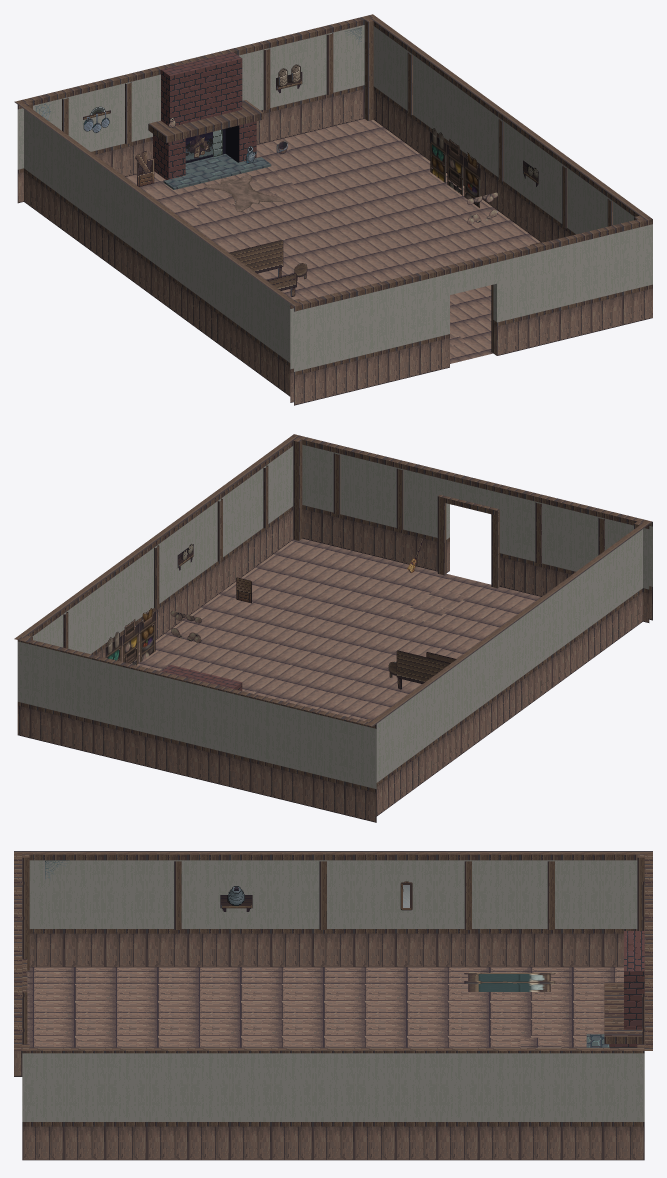
Rendered from homestead_interior.glb.
3 views of the same model, one above another, from view 1: azimuth 30°, elevation 25°; view 2: azimuth 150°, elevation 25°; view 3: azimuth 270°, elevation 25° (orthographic). The views are drawn at different scales.
Parts seen in each view (by area): view 1: crocotile_scene; view 2: crocotile_scene; view 3: crocotile_scene.
Part boxes in pixels (bbox=[...]): crocotile_scene: bbox=[14, 14, 652, 405]; crocotile_scene: bbox=[14, 434, 652, 822]; crocotile_scene: bbox=[14, 851, 652, 1160].
Bounding box in the file's own units: 11.4 × 3 × 15.4.
Materials: 4 (4 with a texture image).
